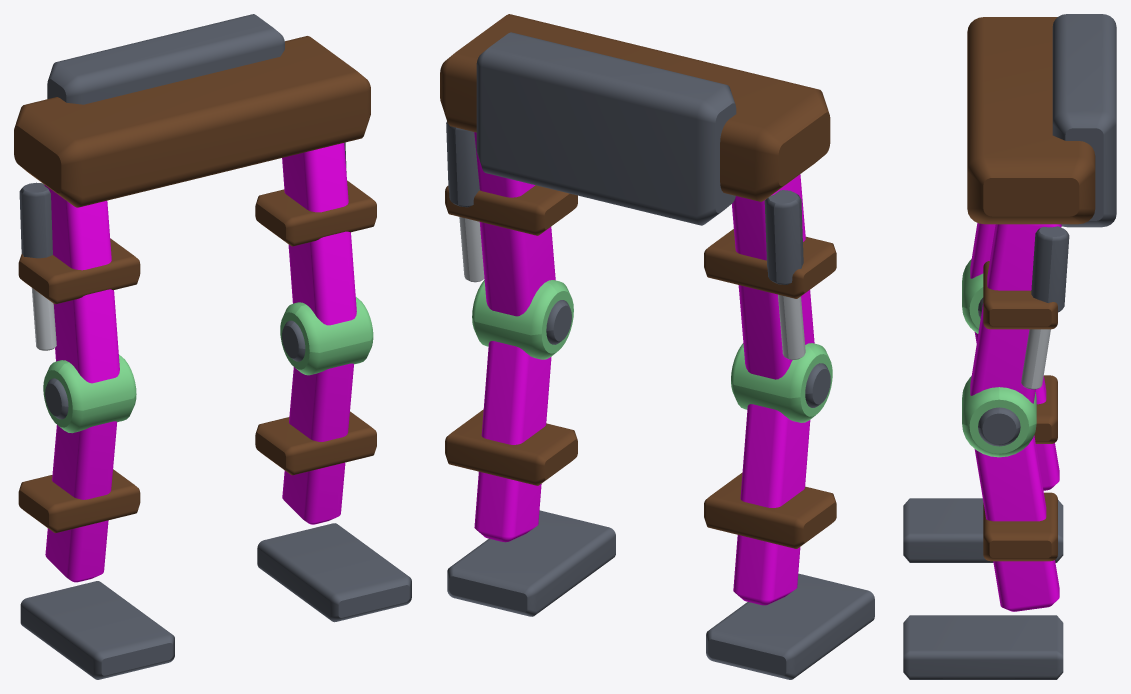
Rendered from objet_exosquelette.glb.
3 views of the same model, side by side, from view 1: azimuth 30°, elevation 25°; view 2: azimuth 150°, elevation 25°; view 3: azimuth 270°, elevation 25° (orthographic). The views are drawn at different scales.
Parts seen in each view (by area): view 1: exo_sac_cuir.002, exo_exo_metal.002, exo_teinte.002, exo_exo_vert.002, exo_rivet.002; view 2: exo_exo_metal.002, exo_sac_cuir.002, exo_teinte.002, exo_exo_vert.002, exo_rivet.002; view 3: exo_exo_metal.002, exo_sac_cuir.002, exo_teinte.002, exo_exo_vert.002, exo_rivet.002.
Boxes of the visible parts, x1,y1,x2,y2 form: exo_sac_cuir.002: (14,36,376,533); exo_exo_metal.002: (19,14,411,679); exo_teinte.002: (44,143,356,582); exo_exo_vert.002: (43,297,373,433); exo_rivet.002: (31,288,56,350); exo_exo_metal.002: (446,32,874,679); exo_sac_cuir.002: (440,14,836,548); exo_teinte.002: (474,132,814,605); exo_exo_vert.002: (472,280,832,422); exo_rivet.002: (459,217,805,359); exo_exo_metal.002: (903,14,1116,679); exo_sac_cuir.002: (967,17,1095,561); exo_teinte.002: (970,223,1061,611); exo_exo_vert.002: (962,259,1036,457); exo_rivet.002: (1021,329,1050,389).
Size of the model in its own units: 0.18 by 0.28 by 0.1.
